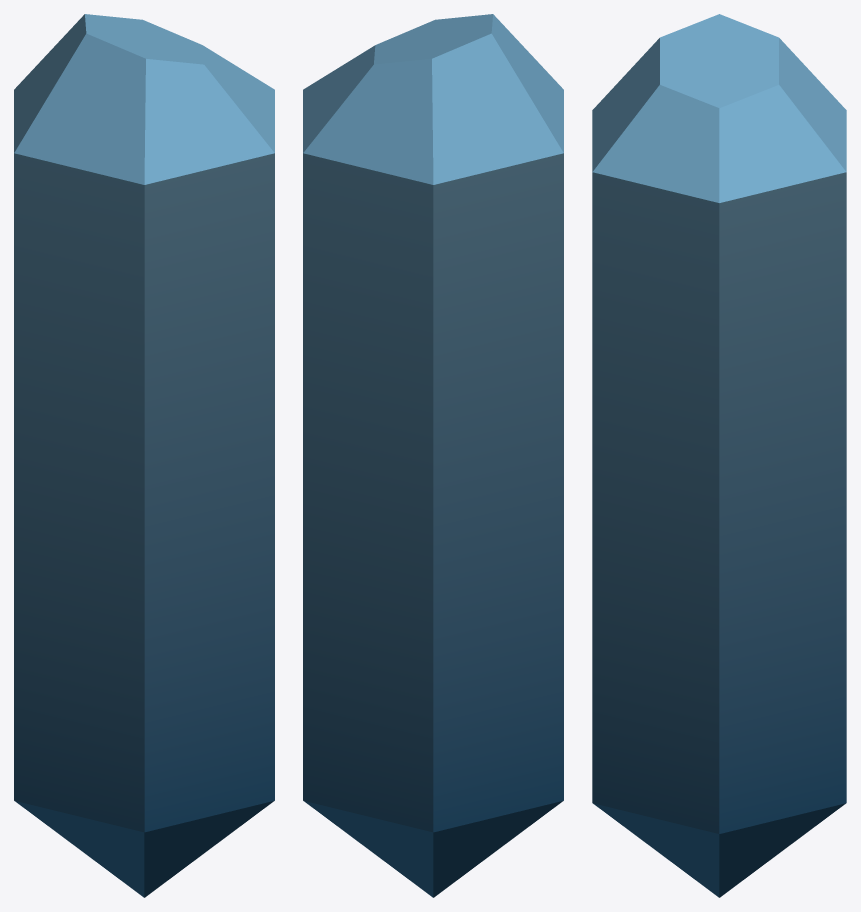
File: geology-crystals-icecrystal_v11.fbx
3 views of the same model, side by side, from view 1: azimuth 30°, elevation 25°; view 2: azimuth 150°, elevation 25°; view 3: azimuth 270°, elevation 25° (orthographic). The views are drawn at different scales.
Parts seen in each view (by area): view 1: IceCrystal_v11; view 2: IceCrystal_v11; view 3: IceCrystal_v11.
Boxes of the visible parts, left/top/right/bottom form: IceCrystal_v11: left=14, top=14, right=274, bottom=897; IceCrystal_v11: left=303, top=14, right=563, bottom=897; IceCrystal_v11: left=592, top=14, right=846, bottom=897.
Size of the model in its own units: 1.48 by 4.77 by 1.28.
